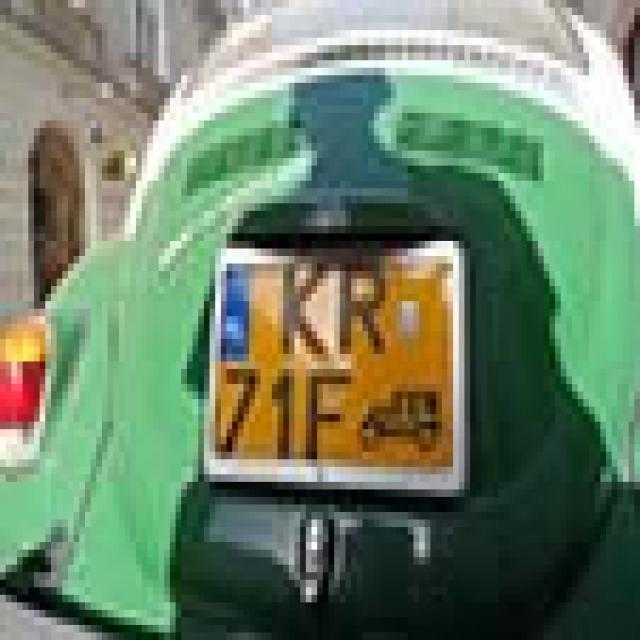pl_license_plate: (210, 248, 448, 460)
